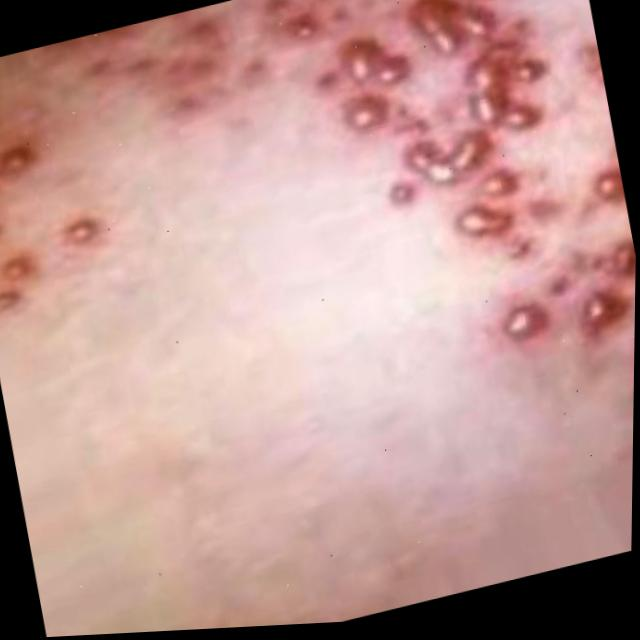Shingles: (52, 0, 640, 515), (0, 128, 126, 322)
